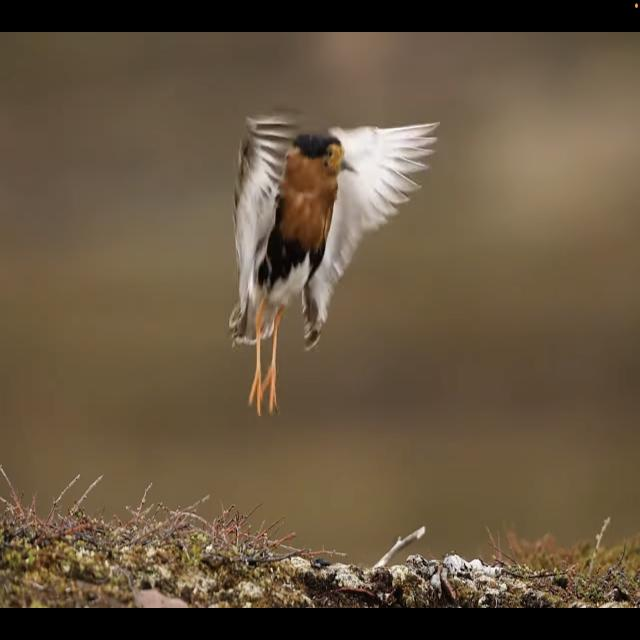beak: (341, 158, 356, 174)
bird: (226, 102, 448, 417)
